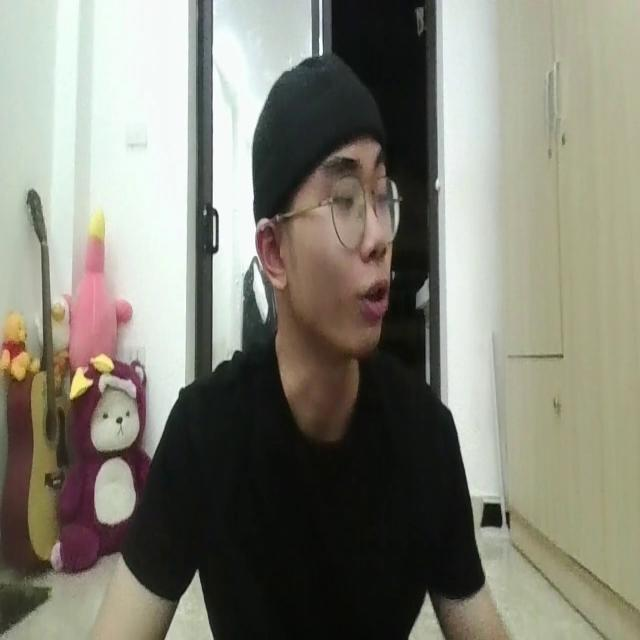student: (88, 54, 506, 640)
